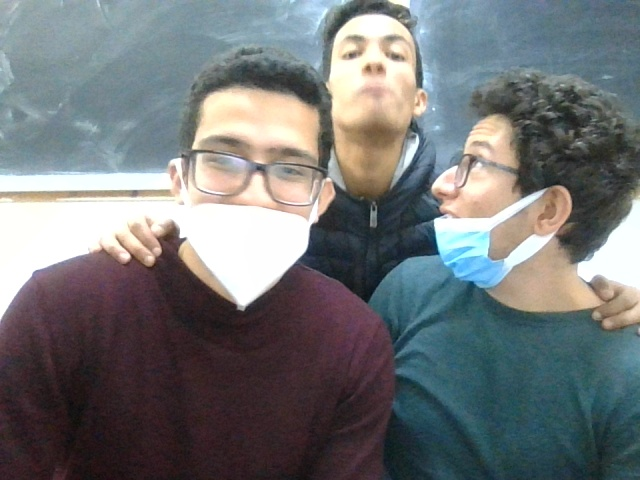mask_weared_incorrect: (430, 65, 624, 303), (178, 41, 334, 297)
